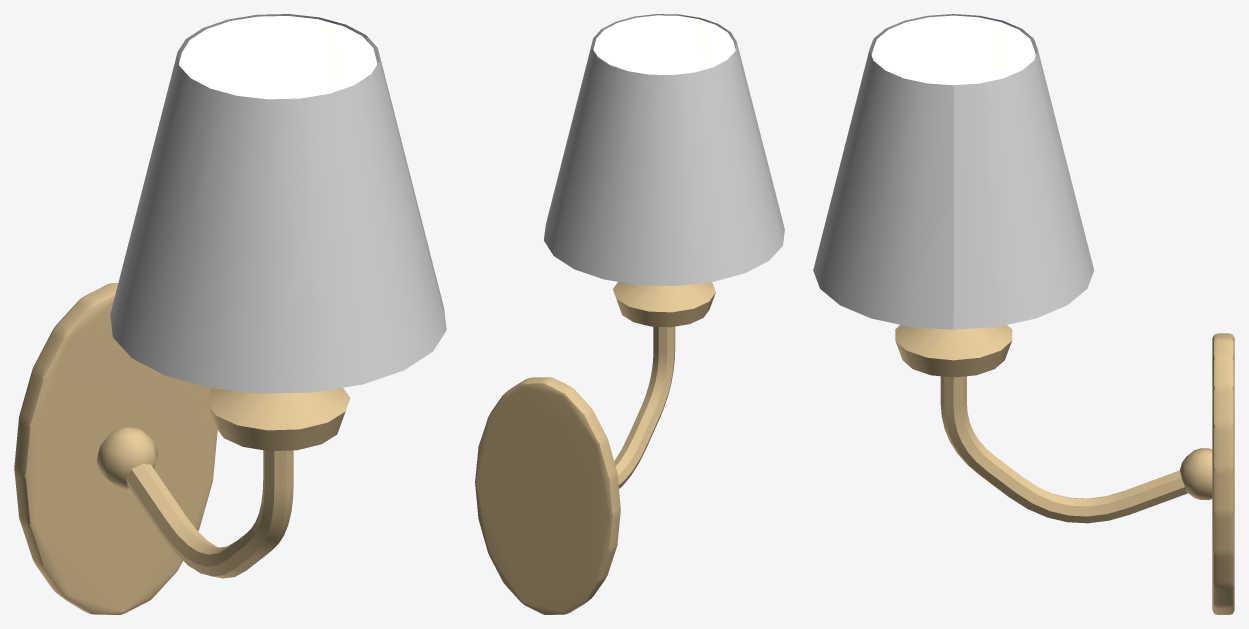
The model's file is SM_Wall_Sconce.fbx.
The picture shows the model from 3 angles, left to right: view 1: azimuth 30°, elevation 25°; view 2: azimuth 150°, elevation 25°; view 3: azimuth 270°, elevation 25°; orthographic projection. The views are drawn at different scales.
Parts seen in each view (by area): view 1: SM_Wall_Sconce_1; view 2: SM_Wall_Sconce_1; view 3: SM_Wall_Sconce_1.
Part boxes in pixels (x1,y1,x2,y2): SM_Wall_Sconce_1: (14, 14, 446, 614); SM_Wall_Sconce_1: (475, 14, 784, 614); SM_Wall_Sconce_1: (813, 14, 1234, 614).
Size of the model in its own units: 15 by 32.96 by 22.5.
